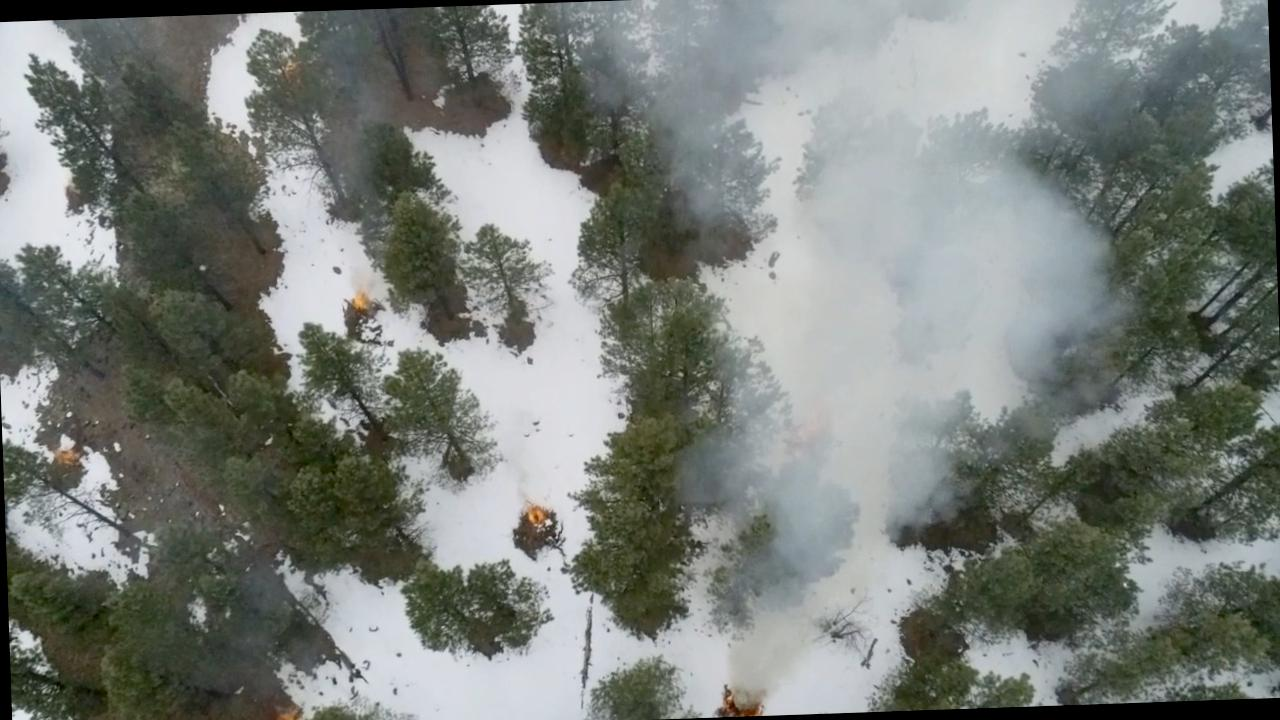fire: (716, 688, 774, 718), (519, 496, 551, 532), (346, 286, 376, 311), (269, 705, 296, 720)
smoke: (574, 0, 1247, 270), (668, 256, 1110, 545)
